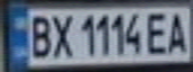1: (75, 11, 96, 56), (93, 10, 112, 55), (109, 10, 127, 55)
4: (124, 9, 145, 55)
A: (163, 8, 193, 55)
B: (24, 11, 54, 60)
E: (142, 9, 172, 55)
X: (48, 10, 75, 58)
